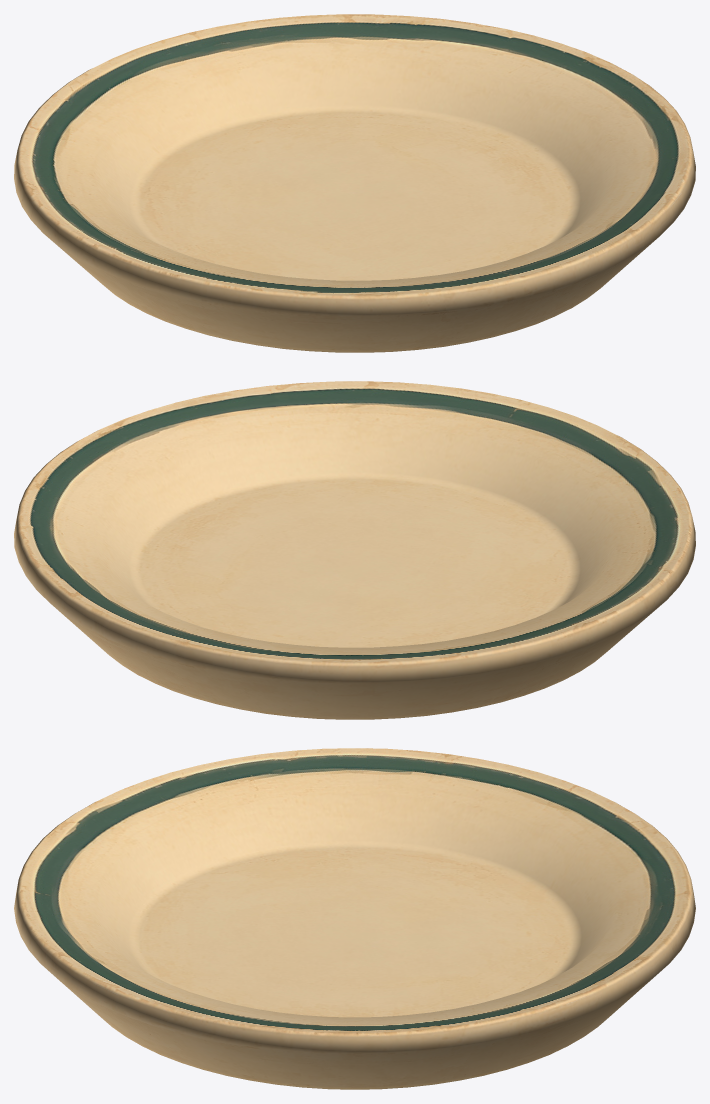
Rendered from P53_dining_plate_Runtime_1k.glb.
3 renders of one model, top to bottom at view 1: azimuth 30°, elevation 25°; view 2: azimuth 150°, elevation 25°; view 3: azimuth 270°, elevation 25°, orthographic.
Parts seen in each view (by area): view 1: tripo_node_ef8e0cd3; view 2: tripo_node_ef8e0cd3; view 3: tripo_node_ef8e0cd3.
Part boxes in pixels (box(x1,y1,x2,y2)): tripo_node_ef8e0cd3: box(14, 14, 695, 352); tripo_node_ef8e0cd3: box(14, 381, 695, 719); tripo_node_ef8e0cd3: box(14, 748, 695, 1089).
Size of the model in its own units: 0.28 by 0.0371 by 0.2775.
Materials: 1 (1 with a texture image).
